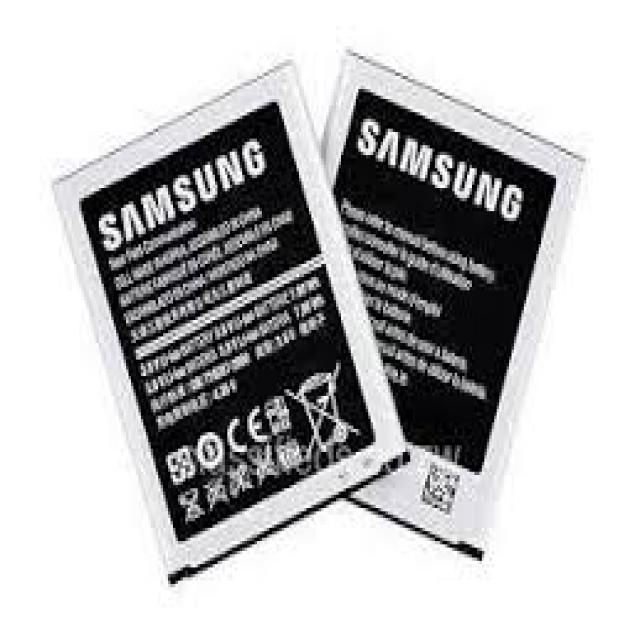non-organic waste: (52, 59, 408, 586), (322, 46, 590, 561)
